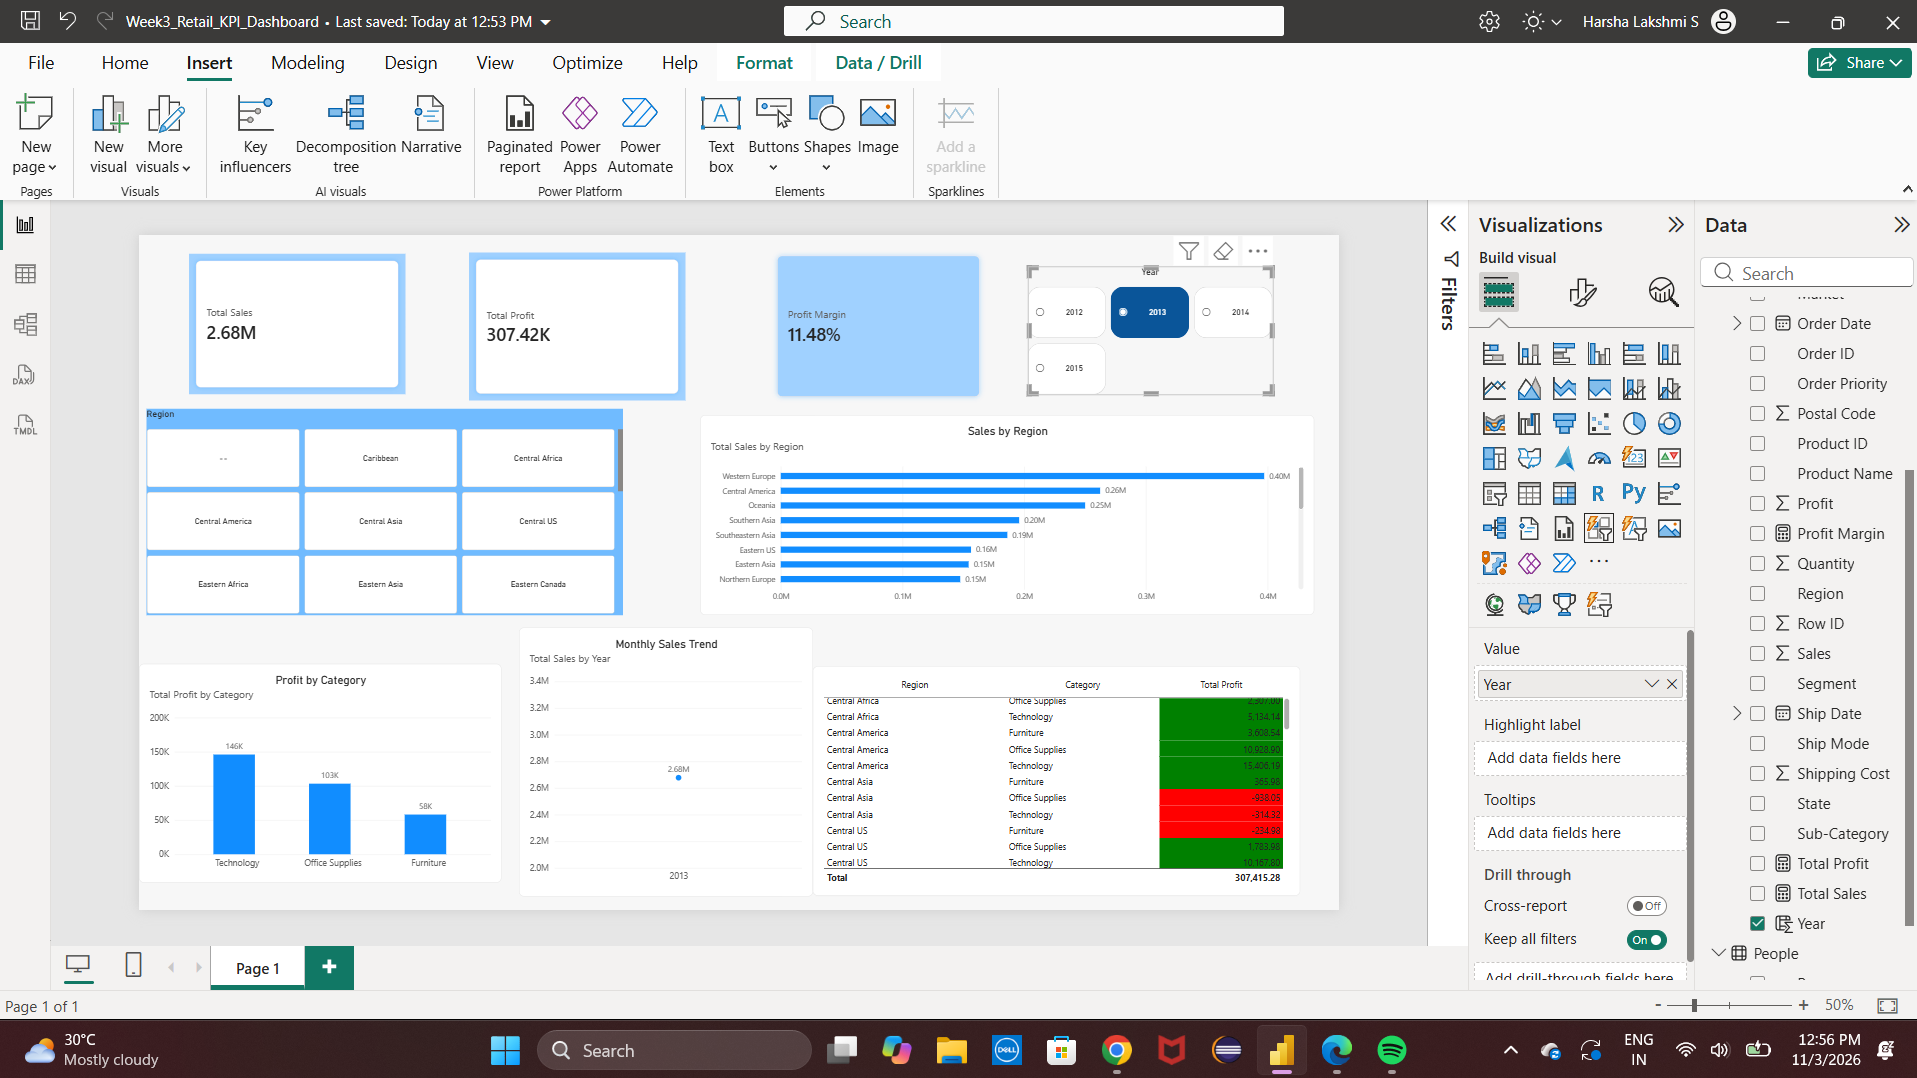

The dashboard page shown, as its layout file describes it:
{"tool":"powerbi","page":{"name":"Page 1","canvas":[1920,1080],"ordinal":0},"visuals":[{"type":"cardVisual","fields":{"Data":["Orders.Total Sales"]},"box":[80,30,347,225.5],"z":0},{"type":"cardVisual","fields":{"Data":["Orders.Total Profit"]},"box":[527.5,27.5,347,237.1],"z":1},{"type":"cardVisual","fields":{"Data":["Orders.Profit Margin"]},"box":[1010,22.5,347,248.7],"z":2},{"type":"advancedSlicerVisual","fields":{"Values":["People.Region"]},"box":[12.5,277.5,762.5,330],"z":3},{"type":"advancedSlicerVisual","fields":{"Values":["Orders.Year"]},"box":[1422.5,50,392.5,205],"z":4},{"type":"clusteredBarChart","title":"Sales by Region","fields":{"Category":["People.Region"],"Y":["Orders.Total Sales"]},"box":[897.5,287.5,982.5,320],"z":5},{"type":"clusteredColumnChart","title":"Profit by Category","fields":{"Category":["Orders.Category"],"Y":["Orders.Total Profit"]},"box":[0,685,580,350],"z":6},{"type":"lineChart","title":"Monthly Sales Trend","fields":{"Category":["Orders.Order Date.Variation.Date Hierarchy.Year","Orders.Order Date.Variation.Date Hierarchy.Quarter","Orders.Order Date.Variation.Date Hierarchy.Month","Orders.Order Date.Variation.Date Hierarchy.Day"],"Y":["Orders.Total Sales"]},"box":[607.5,627.5,470,430],"z":7},{"type":"tableEx","fields":{"Values":["Orders.Region","Orders.Category","Orders.Total Profit"]},"box":[1077.5,690,780,367.5],"z":8}]}

Visuals, with their boxes on the page's 1920x1080 design canvas (x1, y1, x2, y2). These are canvas units, not pixel positions in the 1917x1078 screenshot, which may show the page scaled, cropped or inside an application window:
cardVisual - Orders.Total Sales: <region>80, 30, 427, 256</region>
cardVisual - Orders.Total Profit: <region>528, 28, 874, 265</region>
cardVisual - Orders.Profit Margin: <region>1010, 22, 1357, 271</region>
advancedSlicerVisual - People.Region: <region>12, 278, 775, 608</region>
advancedSlicerVisual - Orders.Year: <region>1422, 50, 1815, 255</region>
"Sales by Region" clusteredBarChart: <region>898, 288, 1880, 608</region>
"Profit by Category" clusteredColumnChart: <region>0, 685, 580, 1035</region>
"Monthly Sales Trend" lineChart: <region>608, 628, 1078, 1058</region>
tableEx - Orders.Region x Orders.Category: <region>1078, 690, 1858, 1058</region>
